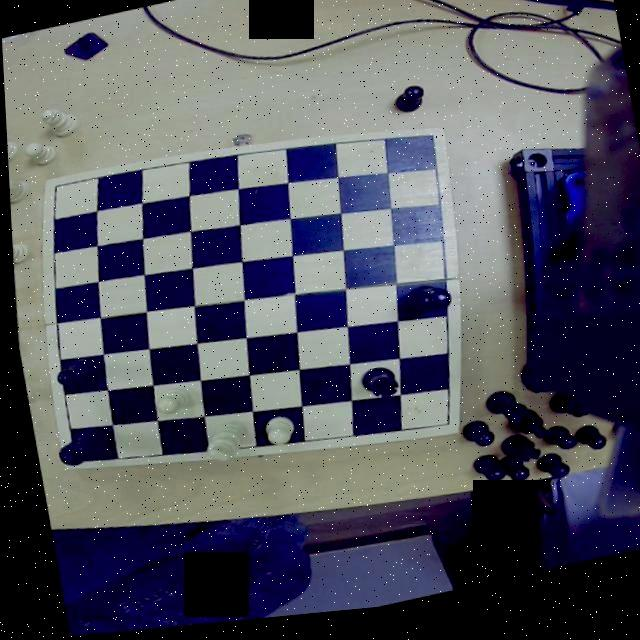chess-table-corners: (412, 133, 442, 161), (428, 415, 456, 442), (56, 449, 88, 472), (40, 177, 66, 202)
